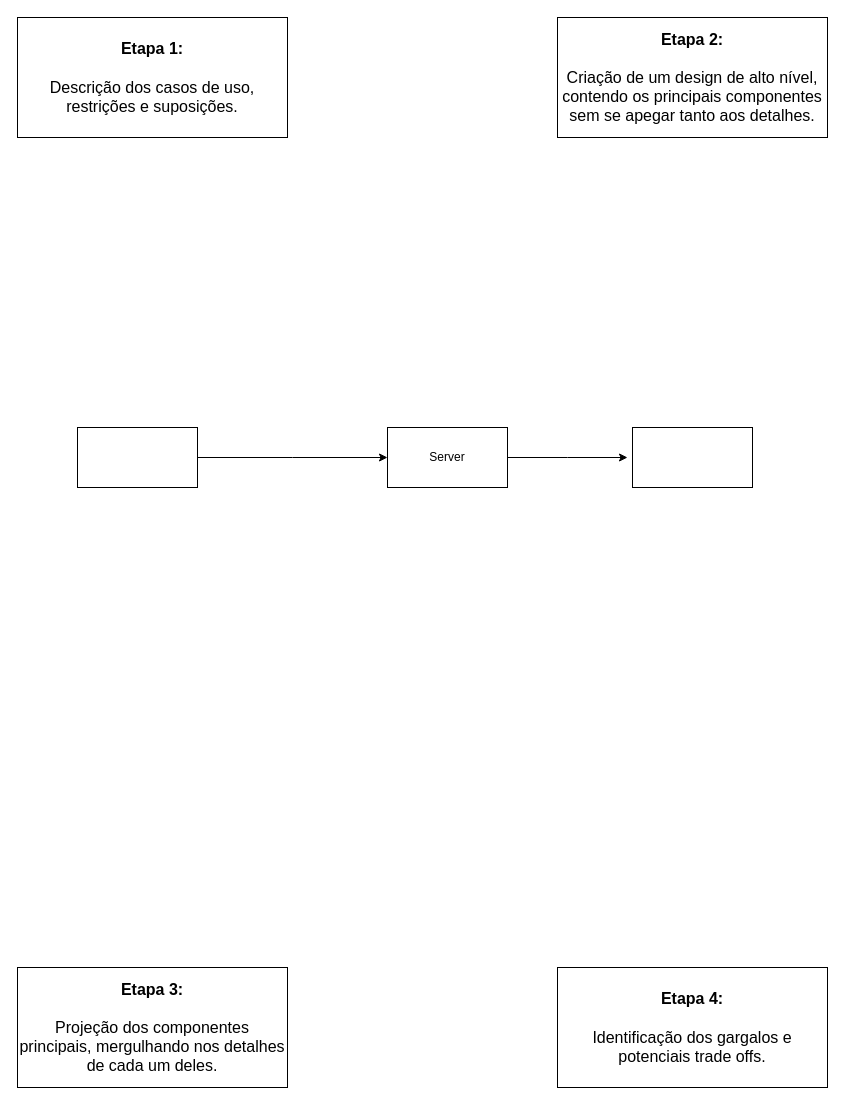
Some shapes in this 845 by 1105 pixel diagram are drawn without their labels. Here are the shapes that lost their labels. From the top down, the centre of each, then its label:
(137,457): Client
(692,457): DB
